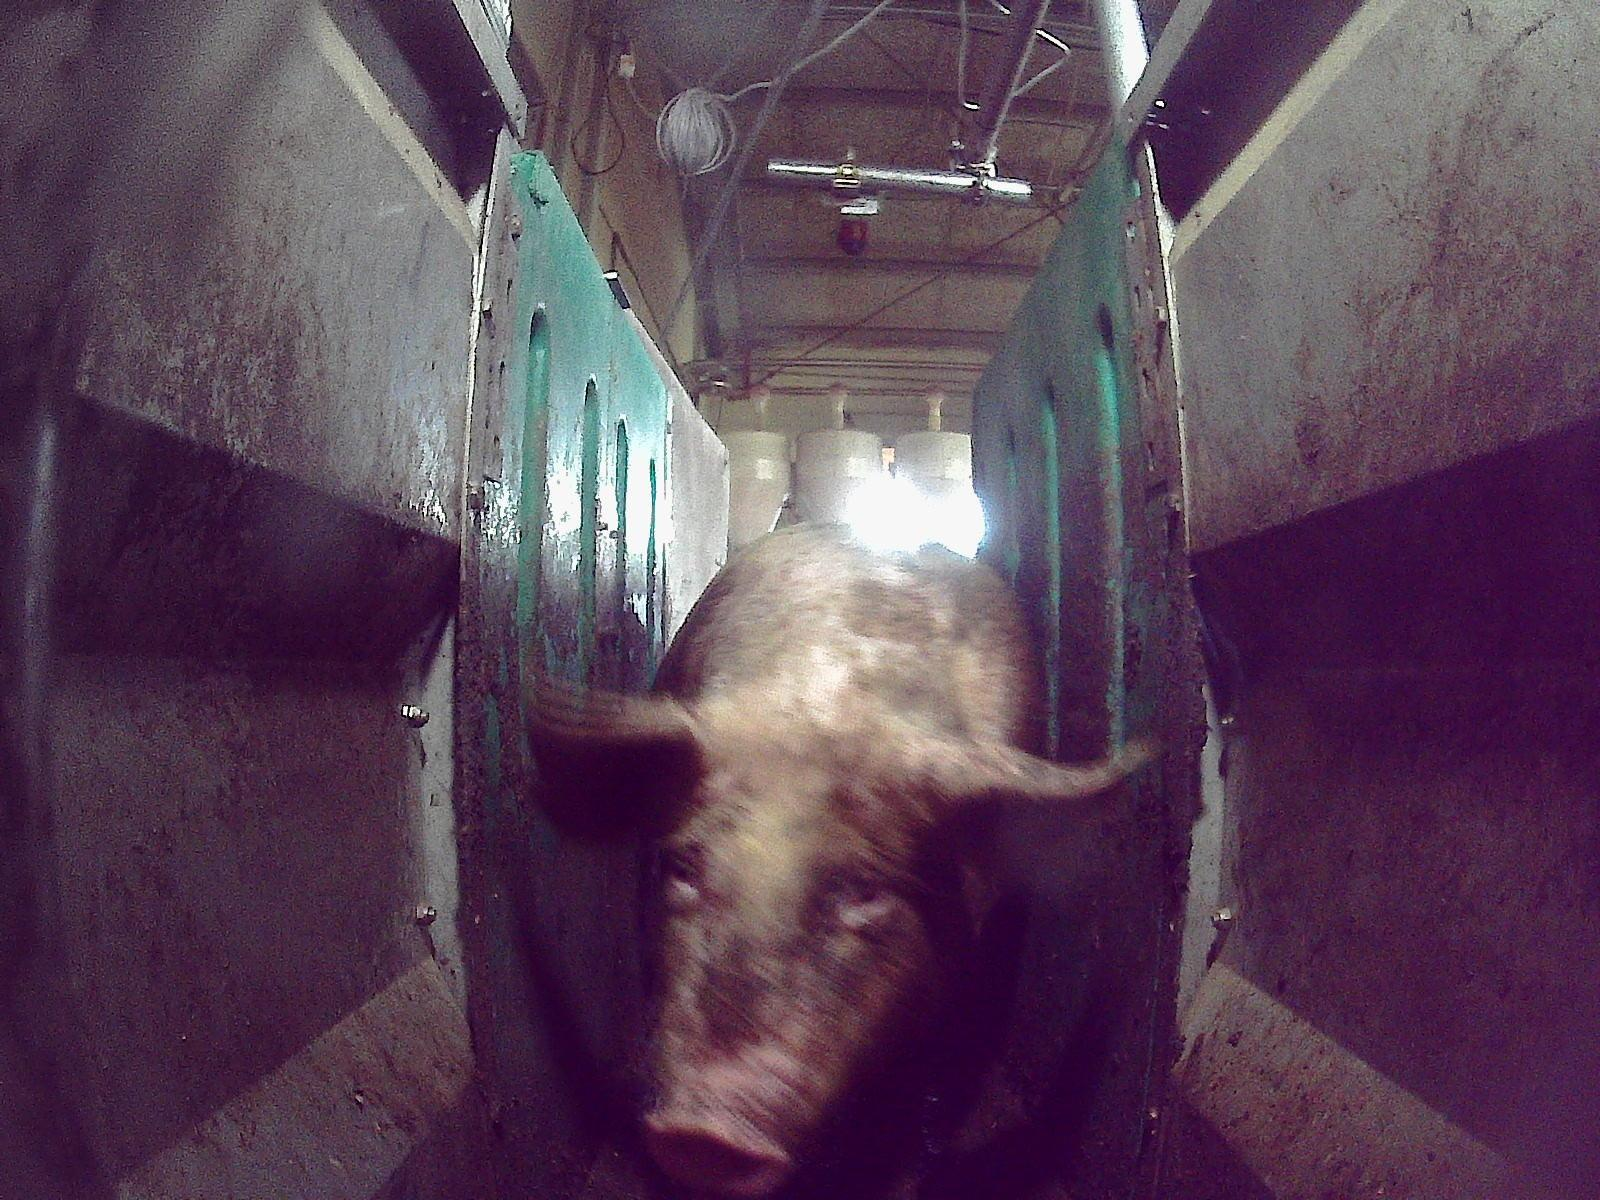Face: (643, 729, 978, 1199)
